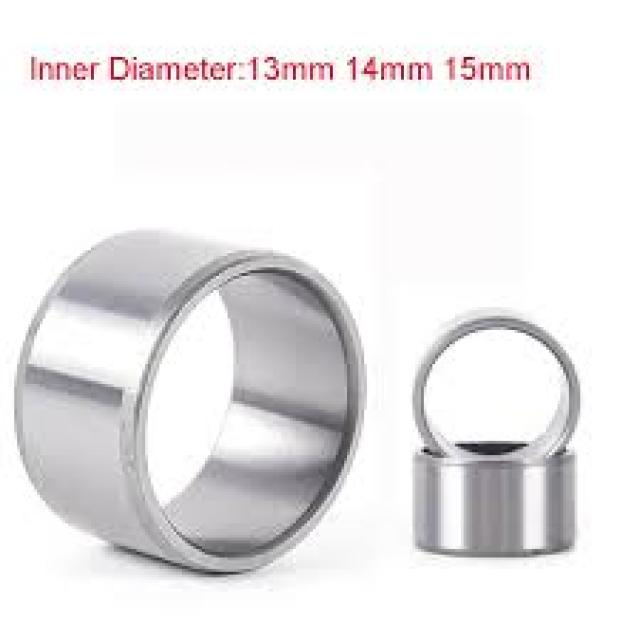Turning: (1, 217, 374, 588), (397, 278, 597, 599)
